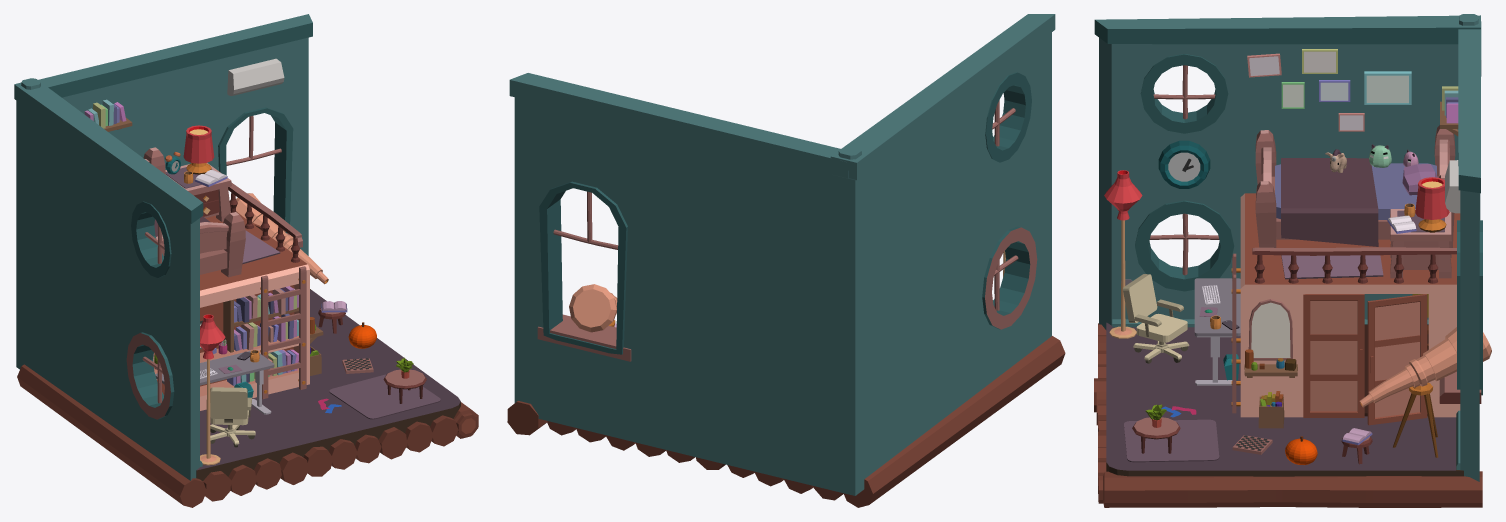
File: bedroom.fbx
3 views of the same model, side by side, from view 1: azimuth 30°, elevation 25°; view 2: azimuth 150°, elevation 25°; view 3: azimuth 270°, elevation 25° (orthographic). The views are drawn at different scales.
Parts seen in each view (by area): view 1: wall.001, wall, floor, floor.001, second-floor, books, window.001, bed, ladder, Carpet.001, window, chair (+13 smaller); view 2: wall, wall.001, floor.001, window.001, window, window.002, telescope; view 3: wall.001, floor, bed, floor.001, second-floor, wall, cabinet-door, cabinet-door.001, pictures, window.001, window, telescope (+21 smaller).
Part boxes in pixels (<box>): wall.001: <box>14,78,203,480</box>; wall: <box>38,14,312,255</box>; floor: <box>196,289,460,481</box>; floor.001: <box>17,364,478,507</box>; second-floor: <box>153,212,309,410</box>; books: <box>227,286,298,385</box>; window.001: <box>126,332,174,419</box>; bed: <box>143,147,245,277</box>; ladder: <box>260,266,306,399</box>; Carpet.001: <box>329,374,440,419</box>; window: <box>131,201,171,277</box>; chair: <box>210,387,255,447</box>; wall: <box>509,73,848,490</box>; wall.001: <box>830,14,1055,495</box>; floor.001: <box>507,336,1065,507</box>; window.001: <box>982,226,1037,329</box>; window: <box>985,72,1031,162</box>; window.002: <box>537,191,631,361</box>; telescope: <box>569,284,617,332</box>; wall.001: <box>1094,14,1480,329</box>; floor: <box>1106,322,1463,476</box>; bed: <box>1255,125,1455,247</box>; floor.001: <box>1094,323,1482,507</box>; second-floor: <box>1240,193,1460,417</box>; wall: <box>1456,21,1482,481</box>; cabinet-door: <box>1303,294,1364,417</box>; cabinet-door.001: <box>1367,294,1427,425</box>; pictures: <box>1247,49,1411,131</box>; window.001: <box>1135,200,1234,291</box>; window: <box>1140,54,1228,133</box>; telescope: <box>1359,327,1491,457</box>.
Bounding box in the file's own units: 336 × 324 × 344.
1 material, 1 textured.
